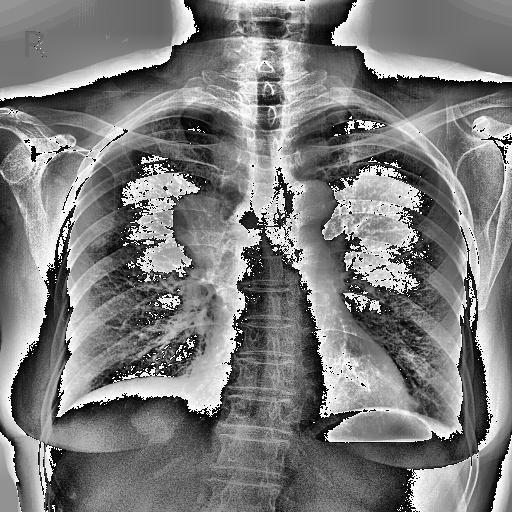0- Aortic enlargement: (291, 180, 336, 228)
7- Lung Opacity: (172, 192, 234, 282)
8- Nodule-Mass: (172, 192, 234, 282), (172, 189, 238, 265), (170, 191, 236, 264)
